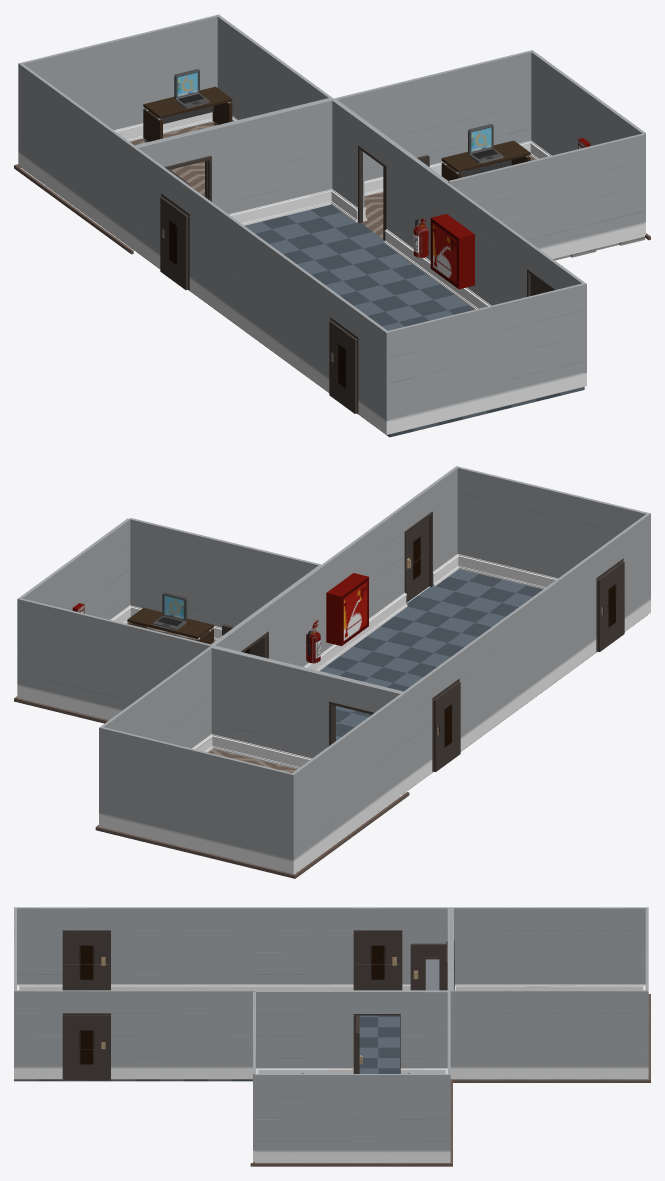
The model's file is oficina principalSegundoNivel.fbx.
3 renders of one model, top to bottom at view 1: azimuth 30°, elevation 25°; view 2: azimuth 150°, elevation 25°; view 3: azimuth 270°, elevation 25°, orthographic. The views are drawn at different scales.
Parts seen in each view (by area): view 1: Caja, Caja_603, Caja_838, Caja_203, Caja_792, Caja_835, Caja_204, Caja_272, Caja_765, Caja_192, Caja_194, Caja_258 (+102 smaller); view 2: Caja, Caja_603, Caja_838, Caja_604, Caja_832, Caja_836, Caja_194, Caja_765, Caja_779, Caja_191, Caja_601, Caja_782 (+105 smaller); view 3: Caja_604, Caja_603, Caja_838, _2, Caja_170, Caja_171, Caja_186, Caja_199, Caja_344, Caja_356, Caja_384, Caja_387 (+199 smaller).
Boxes of the visible parts, bbox=[...] form: Caja: bbox=[430, 214, 474, 289]; Caja_603: bbox=[160, 194, 189, 290]; Caja_838: bbox=[329, 317, 358, 413]; Caja_203: bbox=[143, 86, 232, 142]; Caja_792: bbox=[441, 140, 530, 180]; Caja_835: bbox=[468, 124, 503, 163]; Caja_204: bbox=[174, 69, 209, 108]; Caja_272: bbox=[185, 129, 211, 161]; Caja_765: bbox=[497, 163, 523, 195]; Caja_192: bbox=[119, 33, 144, 65]; Caja_194: bbox=[70, 45, 96, 77]; Caja_258: bbox=[260, 189, 285, 221]; Caja: bbox=[326, 573, 368, 646]; Caja_603: bbox=[432, 678, 460, 772]; Caja_838: bbox=[596, 558, 624, 652]; Caja_604: bbox=[404, 511, 432, 603]; Caja_832: bbox=[127, 607, 213, 644]; Caja_836: bbox=[152, 592, 187, 630]; Caja_194: bbox=[219, 756, 244, 787]; Caja_765: bbox=[247, 547, 272, 578]; Caja_779: bbox=[90, 615, 115, 647]; Caja_191: bbox=[148, 738, 173, 769]; Caja_601: bbox=[480, 472, 505, 503]; Caja_782: bbox=[161, 633, 186, 664]; Caja_604: bbox=[62, 1013, 110, 1080]; Caja_603: bbox=[353, 930, 402, 990]; Caja_838: bbox=[62, 930, 110, 990]; _2: bbox=[410, 943, 446, 990]; Caja_170: bbox=[477, 990, 501, 1013]; Caja_171: bbox=[477, 907, 501, 930]; Caja_186: bbox=[574, 990, 598, 1013]; Caja_199: bbox=[574, 907, 598, 930]; Caja_344: bbox=[135, 990, 159, 1013]; Caja_356: bbox=[38, 990, 62, 1013]; Caja_384: bbox=[329, 907, 353, 930]; Caja_387: bbox=[402, 907, 426, 930].
Size of the model in its own units: 531 by 132 by 840.
Materials: 1 (1 with a texture image).
